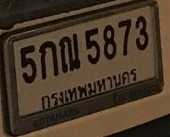num5: (19, 44, 38, 85)
txt01: (38, 40, 59, 82)
txt14: (58, 32, 81, 76)
